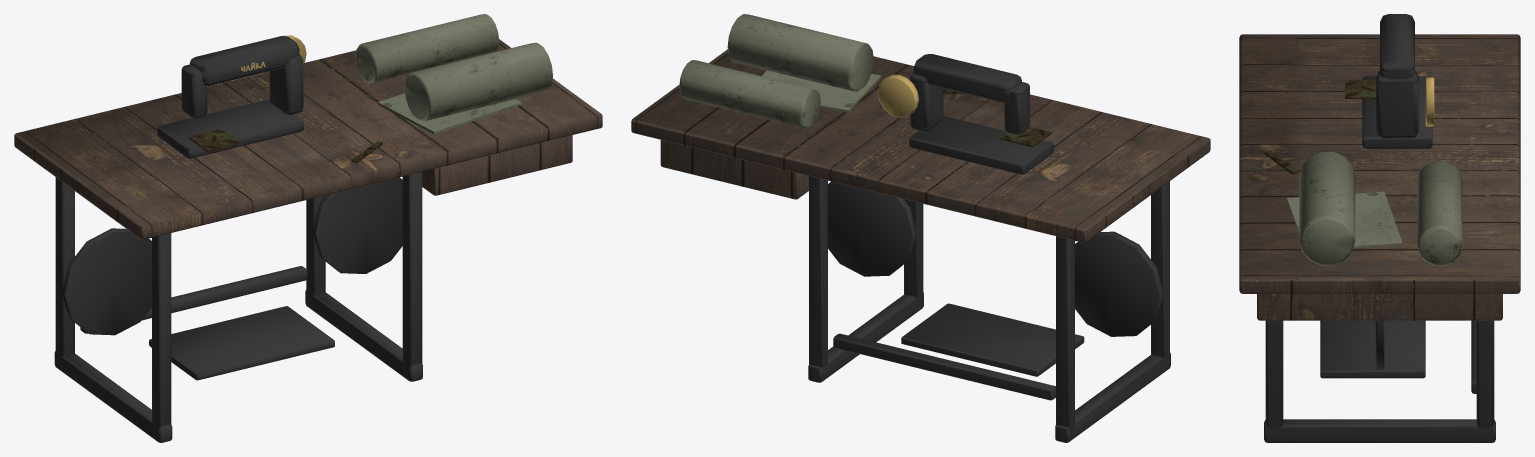
File: deploy_sewing.glb
3 renders of one model, left to right at view 1: azimuth 30°, elevation 25°; view 2: azimuth 150°, elevation 25°; view 3: azimuth 270°, elevation 25°, orthographic. The views are drawn at different scales.
Parts seen in each view (by area): view 1: box, cyl, cyl.003, box.011, cyl.001, cyl.004, box.012, box.001, box.006, box.002, box.014, box.003 (+8 smaller); view 2: box, cyl, cyl.003, box.011, cyl.001, cyl.004, box.012, box.001, box.003, box.010, box.007, box.014 (+9 smaller); view 3: box, box.001, cyl.003, box.011, box.008, cyl.004, box.013, box.017, box.014, box.007, box.006, box.012 (+4 smaller).
Part boxes in pixels (x1=…): box: x1=14, y1=39, x2=602, y2=239; cyl: x1=62, y1=228, x2=151, y2=335; cyl.003: x1=404, y1=42, x2=552, y2=121; box.011: x1=149, y1=306, x2=334, y2=380; cyl.001: x1=312, y1=177, x2=402, y2=273; cyl.004: x1=355, y1=14, x2=499, y2=83; box.012: x1=157, y1=99, x2=303, y2=158; box.001: x1=422, y1=135, x2=572, y2=195; box.006: x1=402, y1=172, x2=422, y2=378; box.002: x1=152, y1=233, x2=171, y2=440; box.014: x1=189, y1=36, x2=299, y2=86; box.003: x1=55, y1=177, x2=74, y2=370; box: x1=631, y1=49, x2=1210, y2=242; cyl: x1=1075, y1=231, x2=1163, y2=336; cyl.003: x1=727, y1=14, x2=873, y2=91; box.011: x1=901, y1=303, x2=1084, y2=376; cyl.001: x1=828, y1=181, x2=916, y2=276; cyl.004: x1=679, y1=60, x2=820, y2=128; box.012: x1=909, y1=116, x2=1053, y2=174; box.001: x1=660, y1=140, x2=808, y2=199; box.003: x1=1056, y1=236, x2=1074, y2=441; box.010: x1=833, y1=333, x2=1055, y2=400; box.007: x1=809, y1=176, x2=827, y2=381; box.014: x1=913, y1=54, x2=1021, y2=103; box: x1=1239, y1=34, x2=1520, y2=293; box.001: x1=1257, y1=294, x2=1502, y2=320; cyl.003: x1=1299, y1=151, x2=1355, y2=265; box.011: x1=1320, y1=320, x2=1425, y2=378; box.008: x1=1264, y1=419, x2=1495, y2=442; cyl.004: x1=1417, y1=161, x2=1462, y2=265; box.013: x1=1376, y1=71, x2=1418, y2=138; box.017: x1=1287, y1=191, x2=1402, y2=248; box.014: x1=1380, y1=14, x2=1414, y2=79; box.007: x1=1476, y1=320, x2=1494, y2=442; box.006: x1=1265, y1=320, x2=1283, y2=442; box.012: x1=1362, y1=76, x2=1432, y2=148.
Size of the model in its own units: 1.71 by 1.08 by 0.8.
Materials: 5 (4 with a texture image).
